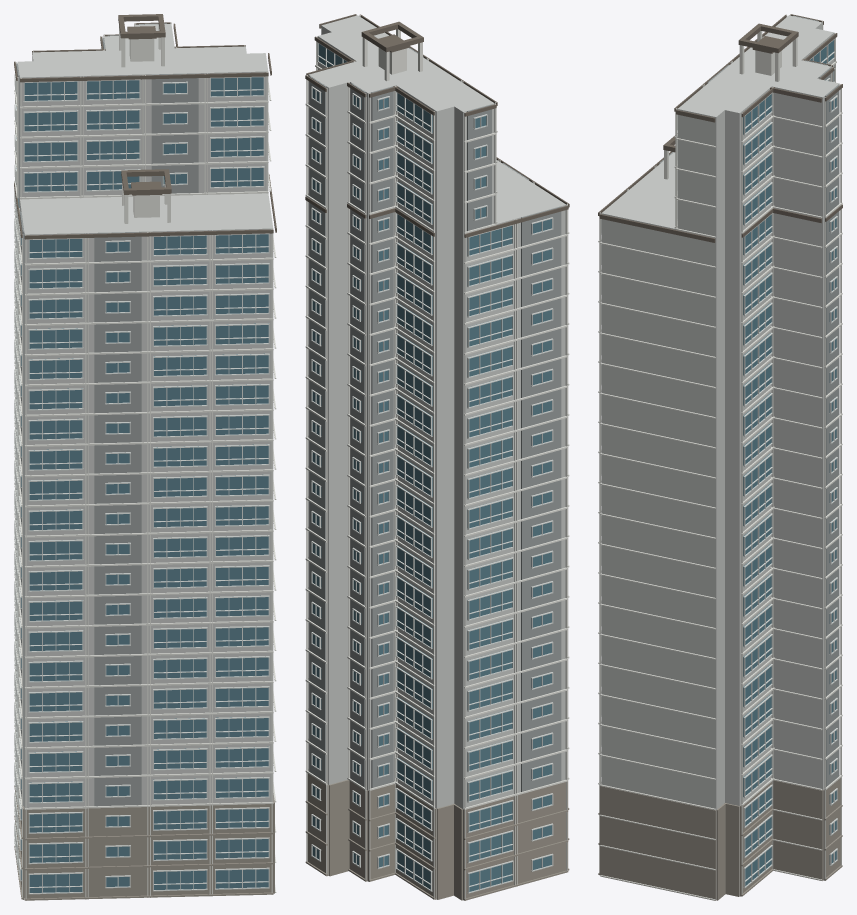
Rendered from bespoke-banpo-xi-139.glb.
3 renders of one model, left to right at view 1: azimuth 30°, elevation 25°; view 2: azimuth 150°, elevation 25°; view 3: azimuth 270°, elevation 25°, orthographic.
Parts seen in each view (by area): view 1: editable_BX139_blue_grey_broad_glazing, editable_BX139_pale_silver_limestone, editable_BX139_white_window_frames, editable_BX139_ivory_course_bands, editable_BX139_grey_service_core, editable_BX139_warm_ground_stone, editable_BX139_dark_coping; view 2: editable_BX139_pale_silver_limestone, editable_BX139_grey_service_core, editable_BX139_blue_grey_broad_glazing, editable_BX139_white_window_frames, editable_BX139_ivory_course_bands, editable_BX139_warm_ground_stone, editable_BX139_dark_coping; view 3: editable_BX139_pale_silver_limestone, editable_BX139_ivory_course_bands, editable_BX139_warm_ground_stone, editable_BX139_white_window_frames, editable_BX139_blue_grey_broad_glazing, editable_BX139_grey_service_core, editable_BX139_dark_coping.
Boxes of the visible parts, <box> form: editable_BX139_blue_grey_broad_glazing: <box>16,77,268,892</box>; editable_BX139_pale_silver_limestone: <box>17,24,273,897</box>; editable_BX139_white_window_frames: <box>14,48,269,894</box>; editable_BX139_ivory_course_bands: <box>14,22,276,900</box>; editable_BX139_grey_service_core: <box>16,23,198,806</box>; editable_BX139_warm_ground_stone: <box>14,786,274,900</box>; editable_BX139_dark_coping: <box>14,14,276,239</box>; editable_BX139_pale_silver_limestone: <box>308,15,566,899</box>; editable_BX139_grey_service_core: <box>309,47,561,791</box>; editable_BX139_blue_grey_broad_glazing: <box>312,44,551,891</box>; editable_BX139_white_window_frames: <box>311,42,553,893</box>; editable_BX139_ivory_course_bands: <box>305,15,569,900</box>; editable_BX139_warm_ground_stone: <box>305,773,569,900</box>; editable_BX139_dark_coping: <box>305,14,569,237</box>; editable_BX139_pale_silver_limestone: <box>601,15,839,899</box>; editable_BX139_ivory_course_bands: <box>598,14,842,900</box>; editable_BX139_warm_ground_stone: <box>598,778,842,900</box>; editable_BX139_white_window_frames: <box>601,38,837,888</box>; editable_BX139_blue_grey_broad_glazing: <box>743,40,836,885</box>; editable_BX139_grey_service_core: <box>659,15,838,786</box>; editable_BX139_dark_coping: <box>598,14,842,242</box>.
Size of the model in its own units: 23.12 by 72.9 by 19.8.
